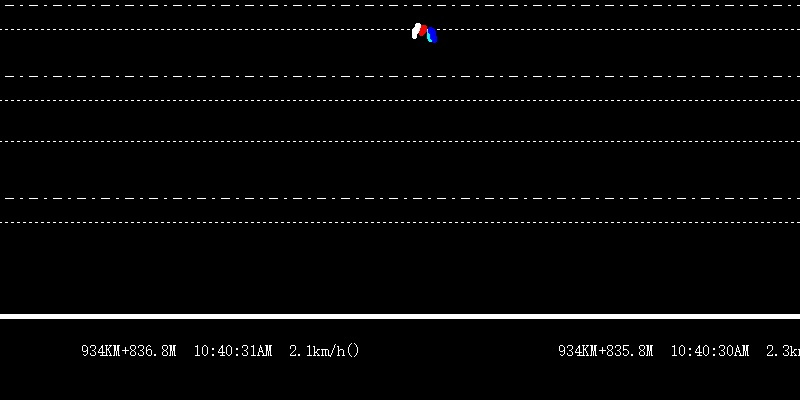face_2: (408, 23, 436, 44)
